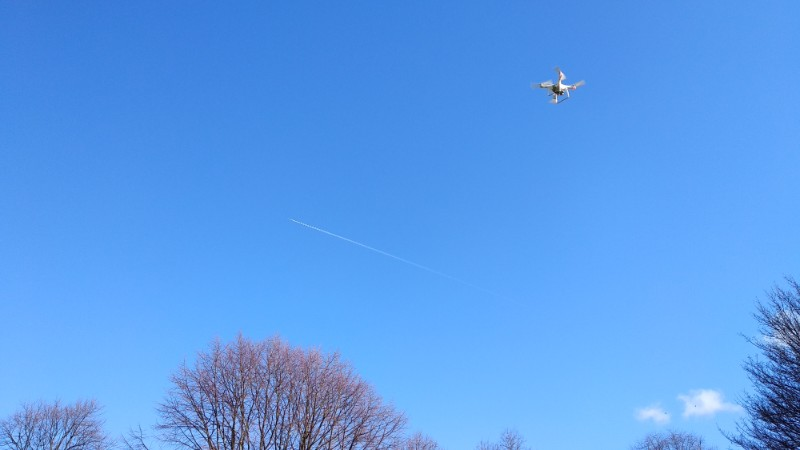drone: (531, 67, 586, 105)
